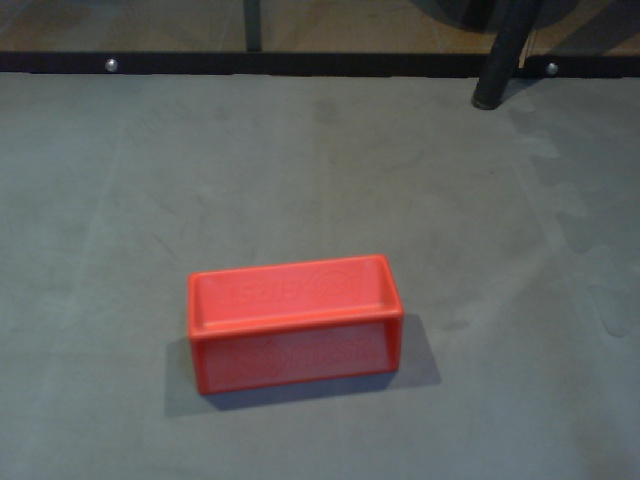RedSample: (182, 252, 406, 400)
